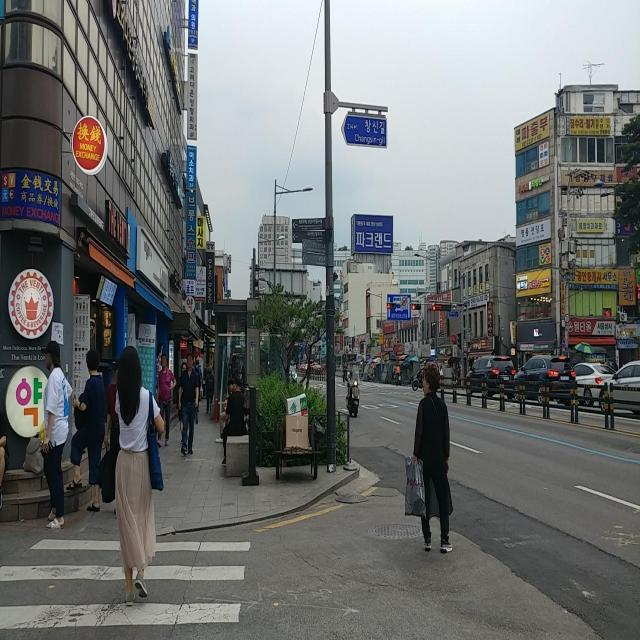횡단보도: (1, 535, 252, 640)
